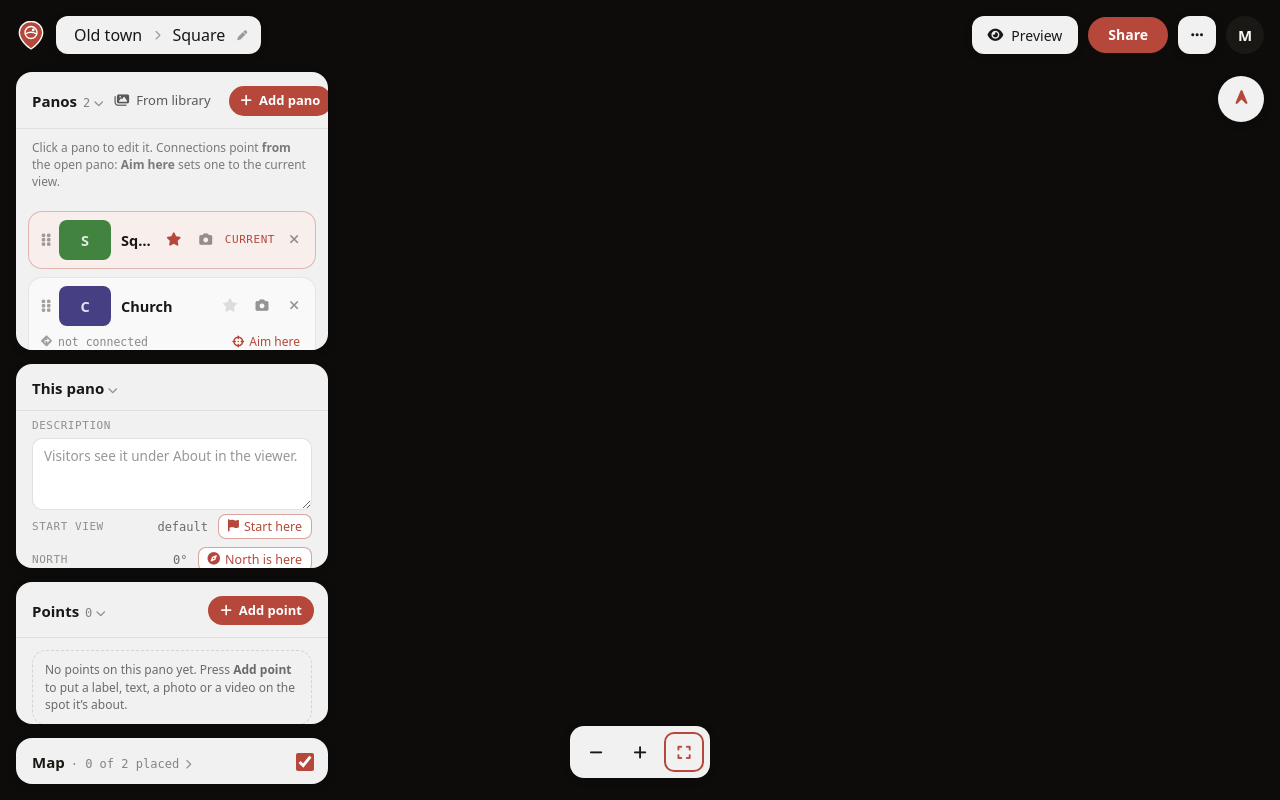
Scenario: editor: scenes still tiling after a reload › does not republish by itself after a not-ready publish when the pano fails
Click the button with aria-label "Tour title: Old town" at {"x": 108, "y": 35}, box [70, 22, 146, 48]
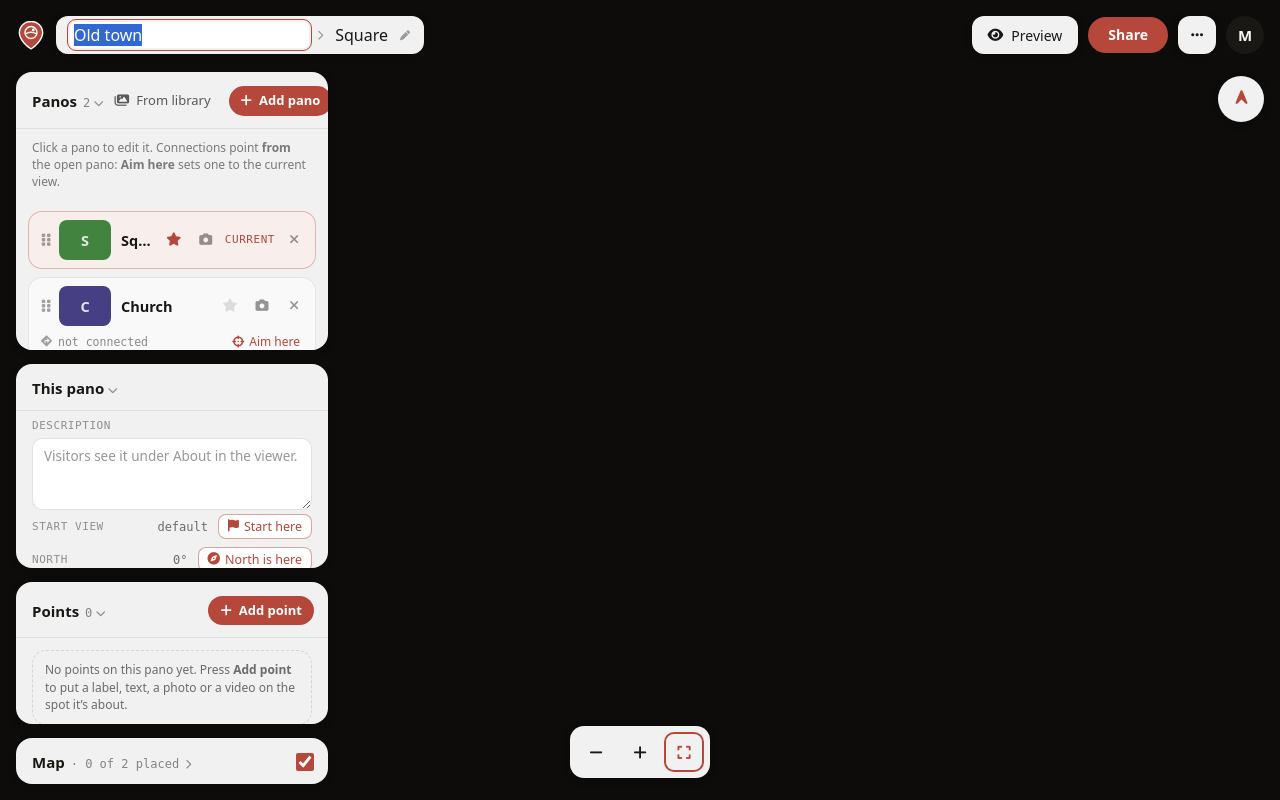
Replace the text in the field named "Tour title" with "New town" at {"x": 190, "y": 35}, box [70, 22, 309, 48]
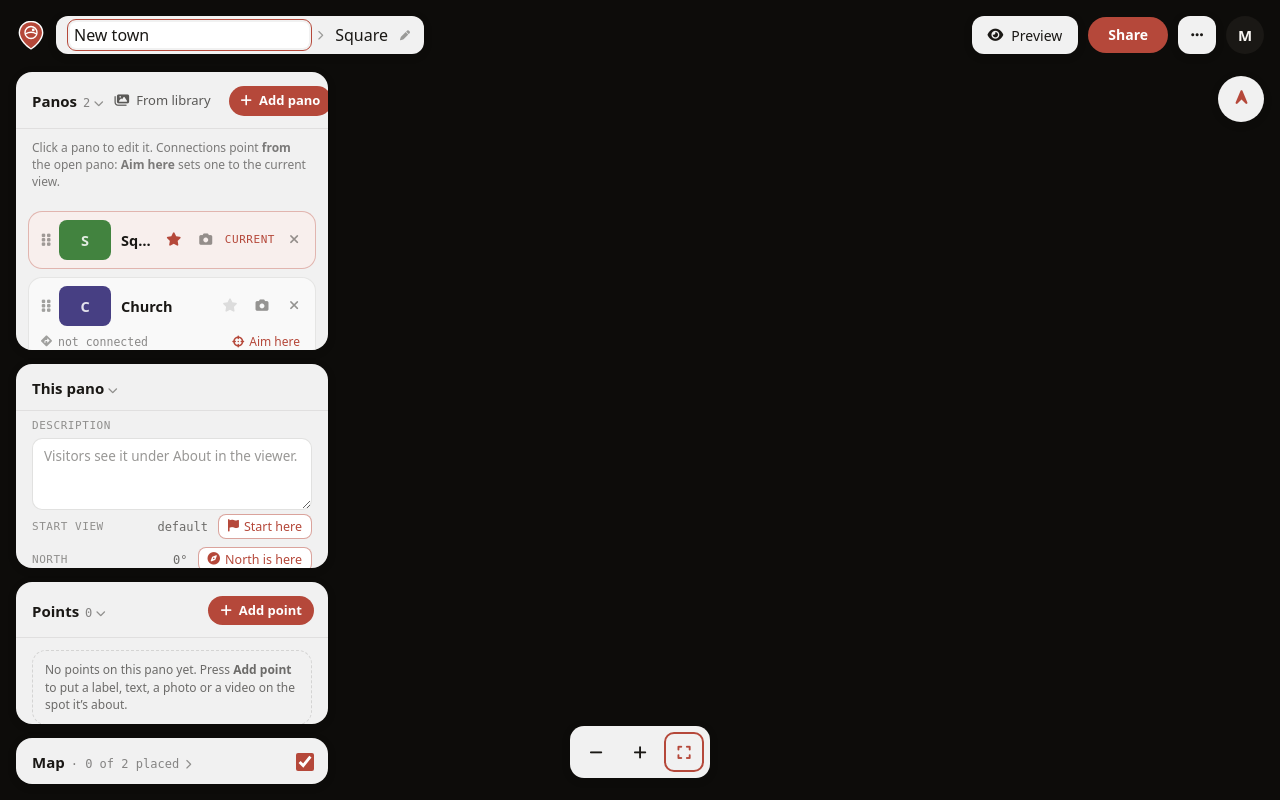
Press Enter in the field named "Tour title", box [70, 22, 309, 48]
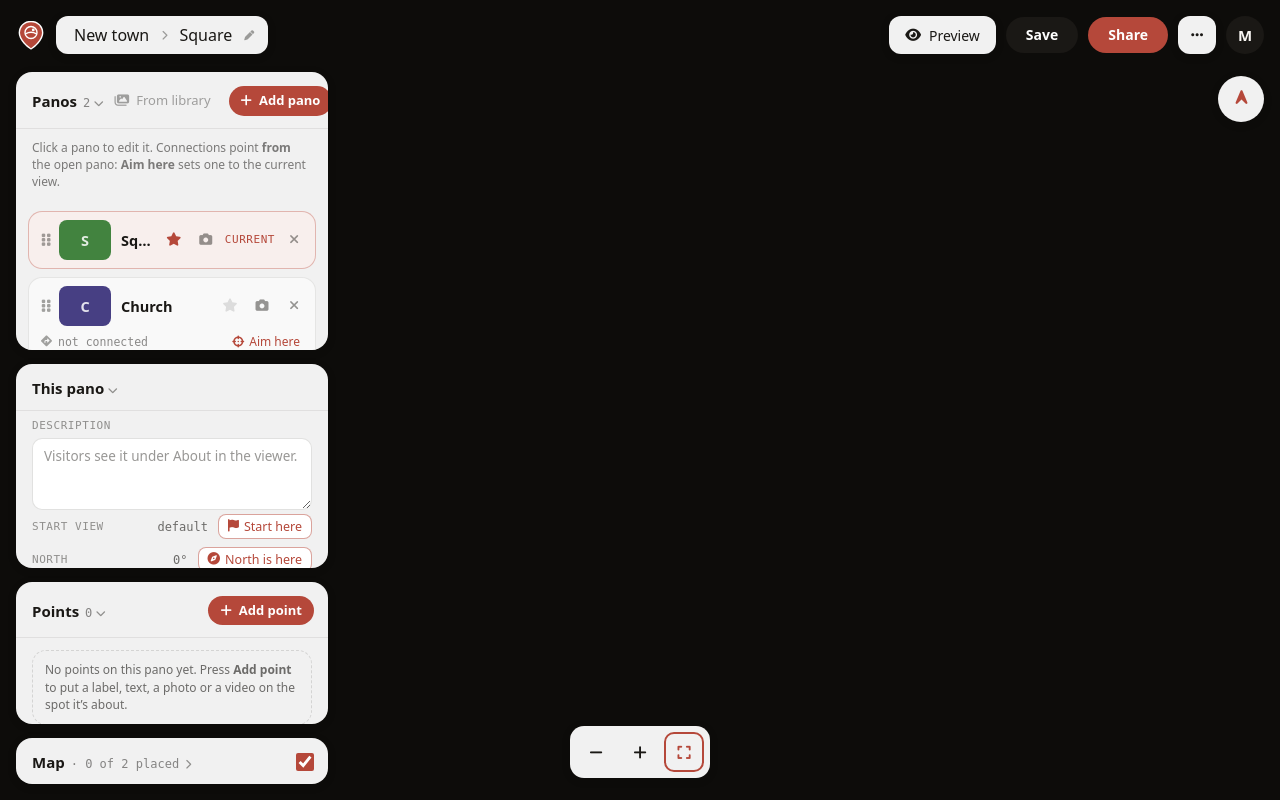
Click the button "Save" at {"x": 1042, "y": 35}, box [1006, 17, 1078, 53]
Wait 40000 ms
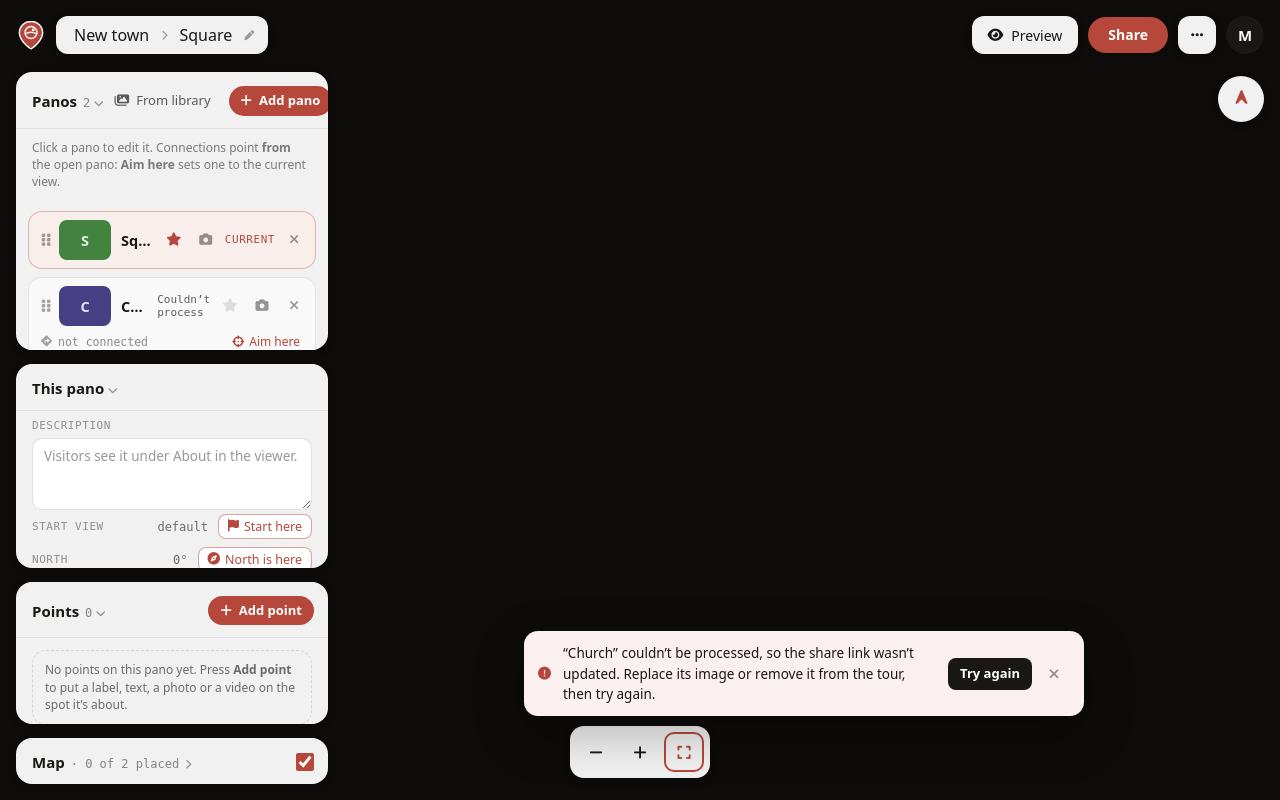
Expected: the text "“Church” couldn’t be processed" is shown, [563, 644, 914, 703]
